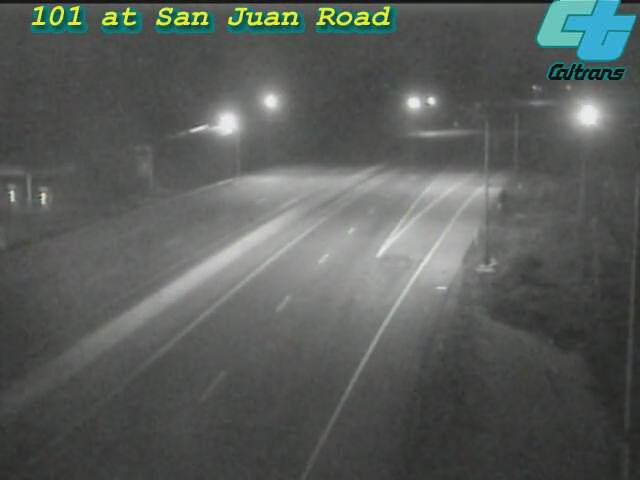vehicle: (562, 91, 612, 141)
